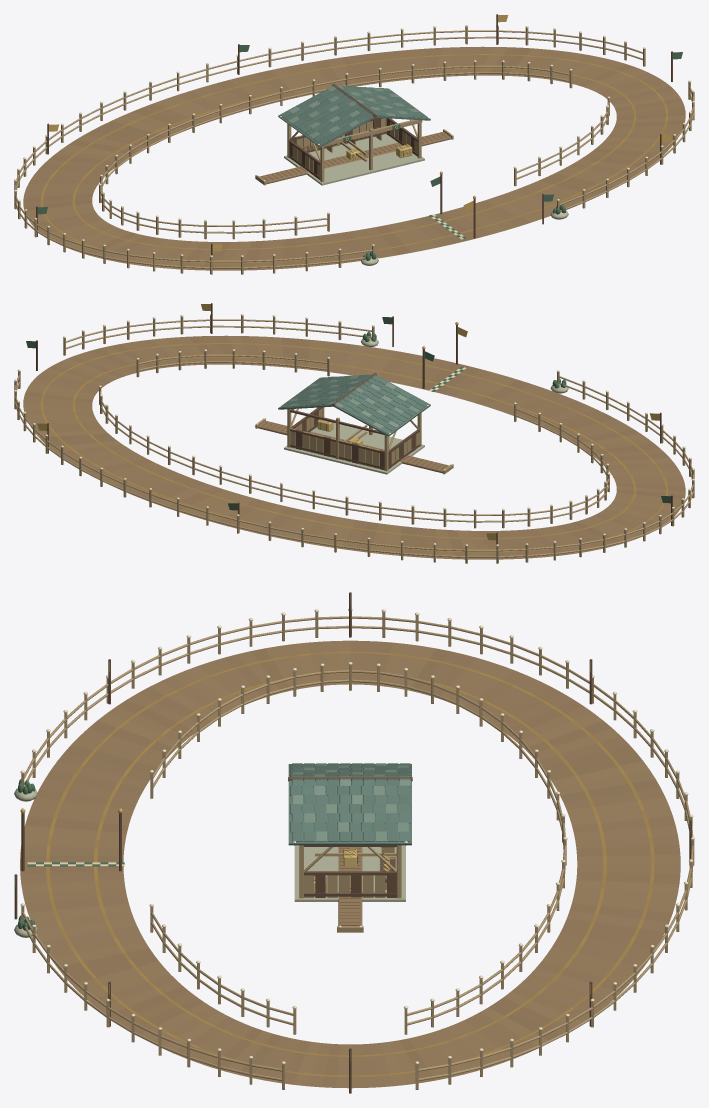
The model's file is town-kit.glb.
3 renders of one model, top to bottom at view 1: azimuth 30°, elevation 25°; view 2: azimuth 150°, elevation 25°; view 3: azimuth 270°, elevation 25°, orthographic. The views are drawn at different scales.
Parts seen in each view (by area): view 1: HorseRacetrack_soil, HorseRacetrack_wood, HorseRacetrack_straw_dark, HorseStable_roof, HorseStable_wood, HorseStable_stone, HorseStable_dark, FarmRow_soil, HorseStable_roof_light, HorseRacetrack_cream, HorseRacetrack_green, HorseRacetrack_dark; view 2: HorseRacetrack_soil, HorseRacetrack_wood, HorseRacetrack_straw_dark, HorseStable_roof, HorseStable_wood, HorseStable_dark, HorseStable_stone, HorseStable_roof_light, HorseRacetrack_cream, FarmRow_soil, HorseRacetrack_green, HorseRacetrack_dark; view 3: HorseRacetrack_soil, HorseRacetrack_wood, HorseStable_roof, HorseRacetrack_straw_dark, HorseStable_wood, HorseStable_stone, HorseStable_dark, HorseStable_roof_light, HorseRacetrack_cream, HorseRacetrack_dark, FarmRow_soil.
Boxes of the visible parts, <box> form: HorseRacetrack_soil: <box>23,46,685,270</box>; HorseRacetrack_wood: <box>14,27,694,274</box>; HorseRacetrack_straw_dark: <box>40,54,668,263</box>; HorseStable_roof: <box>278,86,430,147</box>; HorseStable_wood: <box>287,118,422,182</box>; HorseStable_stone: <box>284,134,424,185</box>; HorseStable_dark: <box>289,84,417,179</box>; FarmRow_soil: <box>260,131,451,184</box>; HorseStable_roof_light: <box>288,84,419,138</box>; HorseRacetrack_cream: <box>14,25,694,257</box>; HorseRacetrack_green: <box>38,45,682,260</box>; HorseRacetrack_dark: <box>36,14,672,255</box>; HorseRacetrack_soil: <box>23,335,685,559</box>; HorseRacetrack_wood: <box>14,316,694,563</box>; HorseRacetrack_straw_dark: <box>40,343,668,552</box>; HorseStable_roof: <box>278,374,430,436</box>; HorseStable_wood: <box>287,407,421,471</box>; HorseStable_dark: <box>290,373,419,470</box>; HorseStable_stone: <box>284,423,424,474</box>; HorseStable_roof_light: <box>288,375,419,428</box>; HorseRacetrack_cream: <box>14,314,694,546</box>; FarmRow_soil: <box>257,420,448,473</box>; HorseRacetrack_green: <box>26,317,670,510</box>; HorseRacetrack_dark: <box>36,303,672,544</box>; HorseRacetrack_soil: <box>20,640,680,1088</box>; HorseRacetrack_wood: <box>21,611,694,1089</box>; HorseStable_roof: <box>288,763,411,845</box>; HorseRacetrack_straw_dark: <box>46,651,654,1076</box>; HorseStable_wood: <box>299,845,401,898</box>; HorseStable_stone: <box>294,845,405,901</box>; HorseStable_dark: <box>288,777,412,897</box>; HorseStable_roof_light: <box>292,763,410,841</box>; HorseRacetrack_cream: <box>20,609,694,1064</box>; HorseRacetrack_dark: <box>14,592,691,1093</box>; FarmRow_soil: <box>338,847,362,926</box>.
Bounding box in the file's own units: 55.36 × 5 × 34.21.
